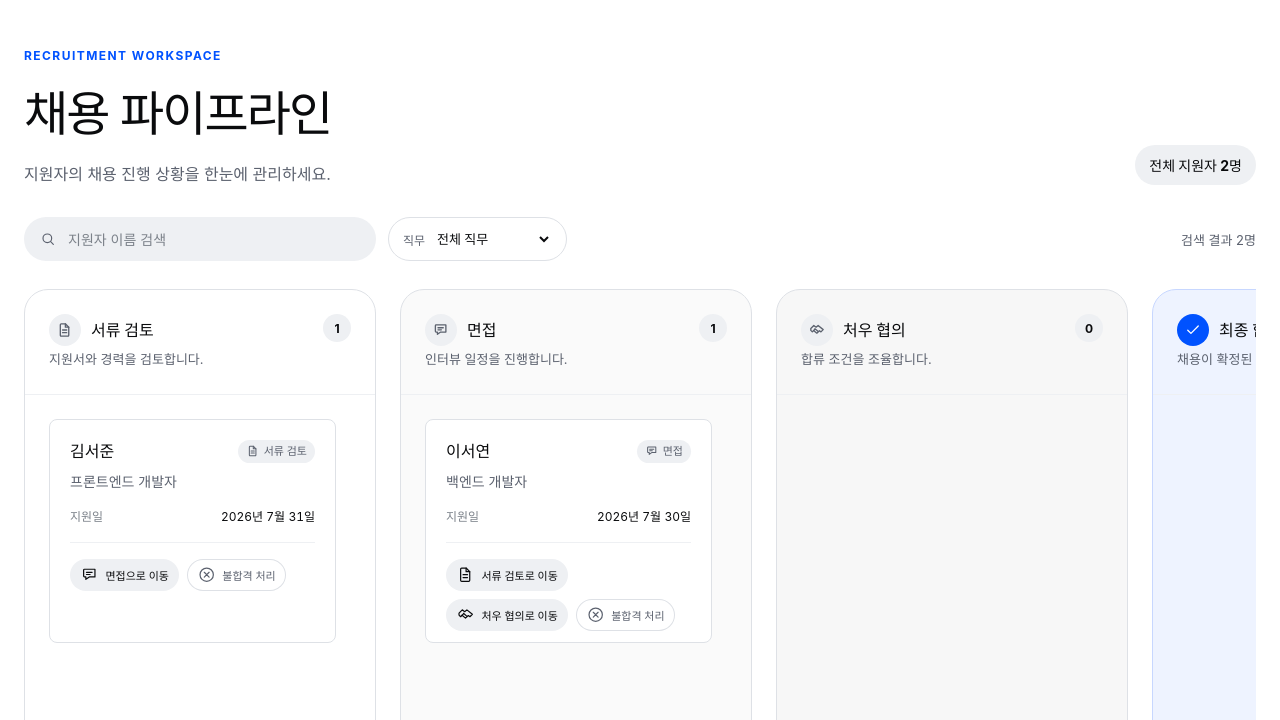
Scenario: App › opens and closes an applicant detail panel
Click the button named "김서준 상세 보기" at (192, 530), box [50,420,335,642]
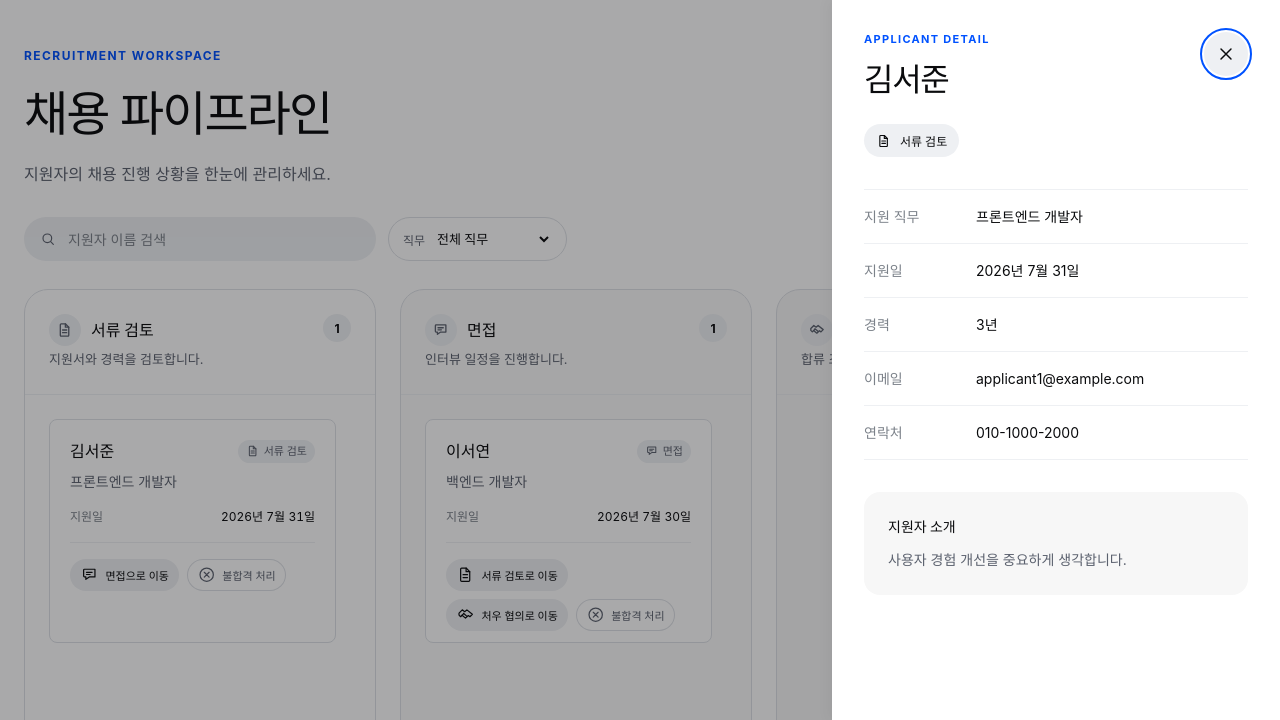
Check: the text "applicant1@example.com" is shown, box [976,370,1144,387]
Check: the text "010-1000-2000" is shown, box [976,424,1079,441]
Check: the text "3년" is shown, box [976,316,998,333]
Click the button named "닫기" at (1226, 54), box [1204,32,1248,76]
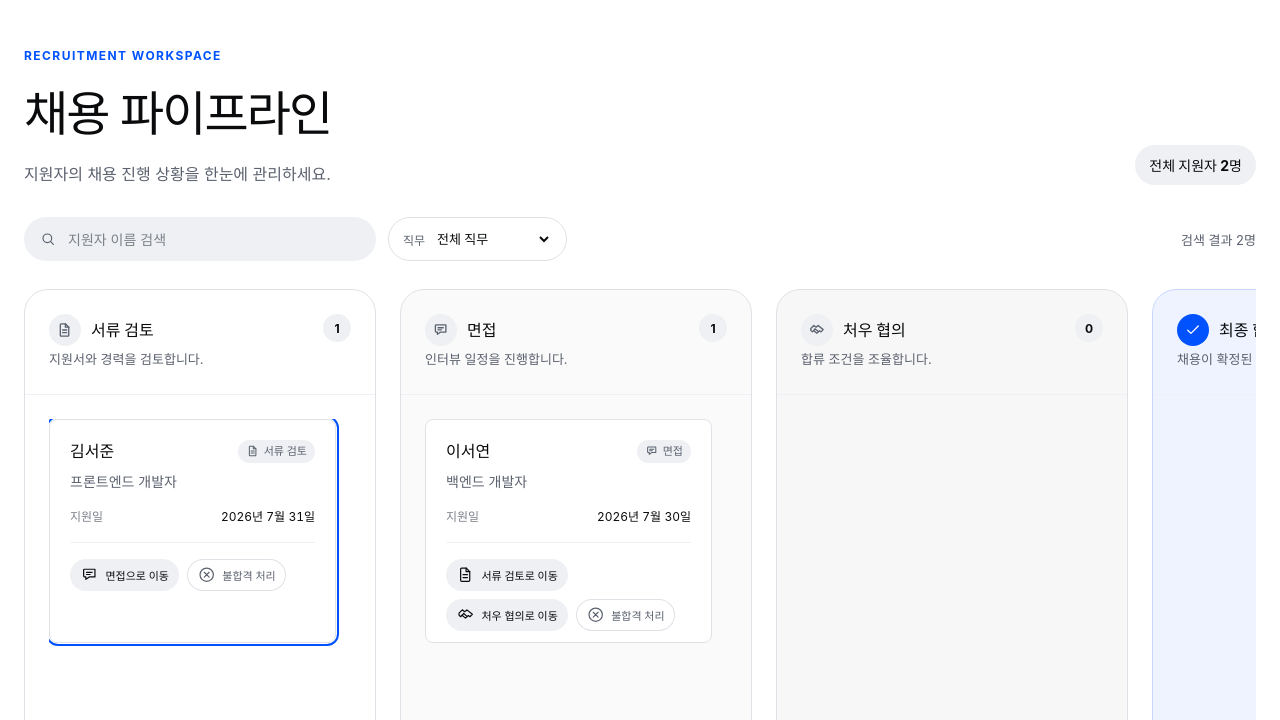
Check: the dialog is gone
